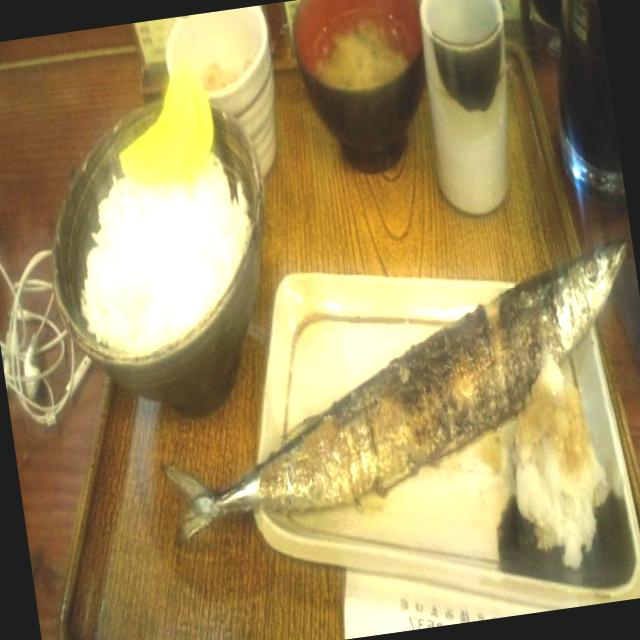Rice: (48, 148, 268, 364)
